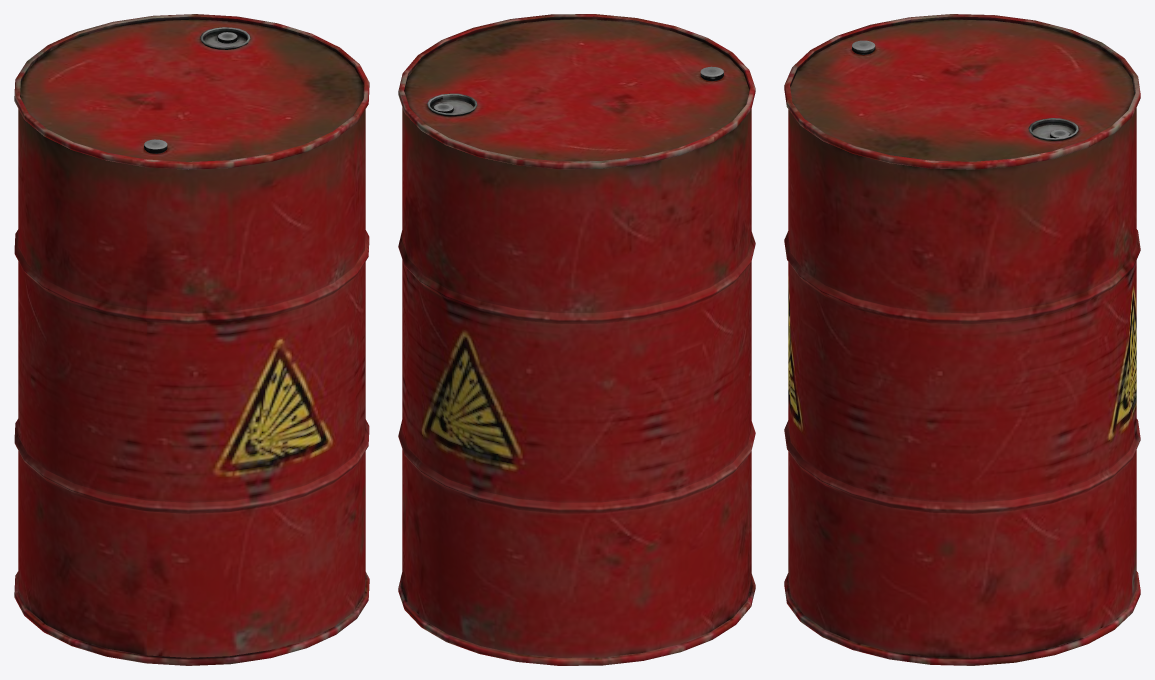
The model's file is Barrel_01.glb.
3 views of the same model, side by side, from view 1: azimuth 30°, elevation 25°; view 2: azimuth 150°, elevation 25°; view 3: azimuth 270°, elevation 25° (orthographic).
Visible parts, largest first — view 1: Barrel_01; view 2: Barrel_01; view 3: Barrel_01.
Boxes of the visible parts, box(x1,y1,x2,y2) form: Barrel_01: box(14, 14, 369, 665); Barrel_01: box(398, 14, 755, 665); Barrel_01: box(784, 14, 1140, 665).
Bounding box in the file's own units: 0.563 × 0.88 × 0.563.
Materials: 1 (1 with a texture image).
